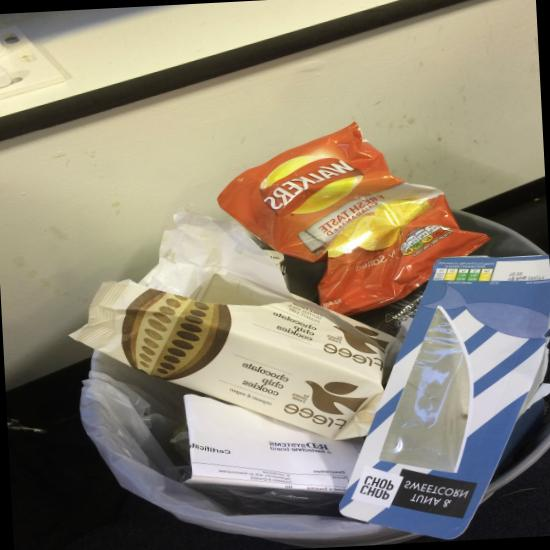Clear plastic bottle: (185, 523, 316, 550)
Disposable food container: (269, 203, 333, 236)
Other plastic: (418, 372, 518, 473)
Other plastic bottle: (404, 114, 435, 147)
Other plastic cup: (520, 174, 538, 205)
Plastic film: (213, 265, 317, 363)
Unlabeled litter: (347, 434, 364, 445)
